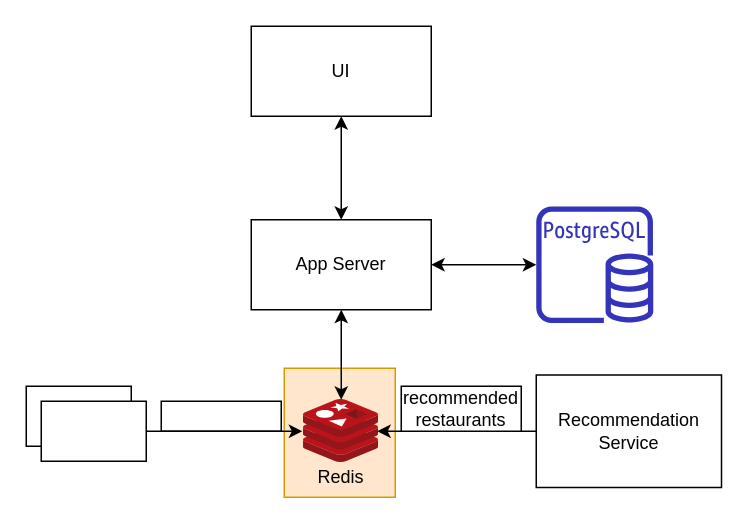
Image size: 749x524. Some labels were removed from this diagram. The shapes that lost their labels are listed below. From the top down, each one's centre as x and y in pixels, then its label:
At point 93,430: "workers".
At point 220,415: "async events".
